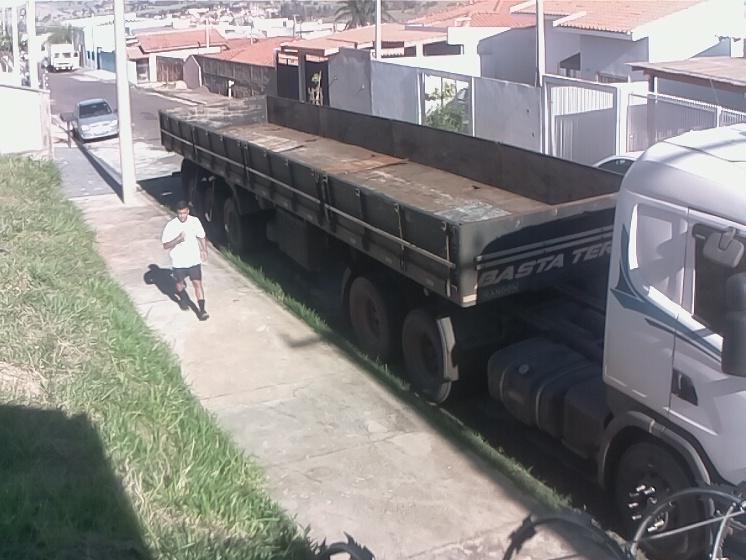person: (160, 199, 215, 322)
